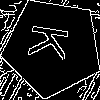K: (28, 22, 79, 63)
